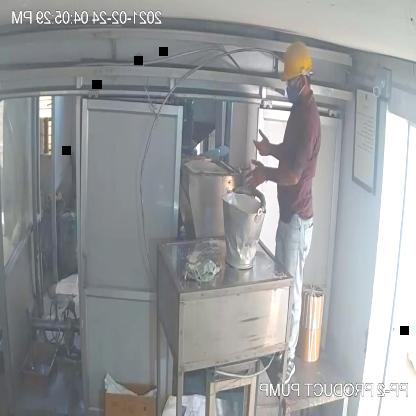helmet: (277, 35, 315, 88)
